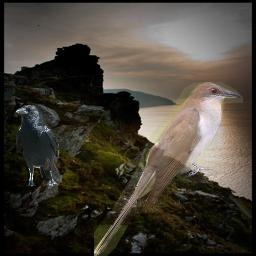Crow: (16, 105, 62, 186)
Cuckoo: (94, 82, 243, 256)
